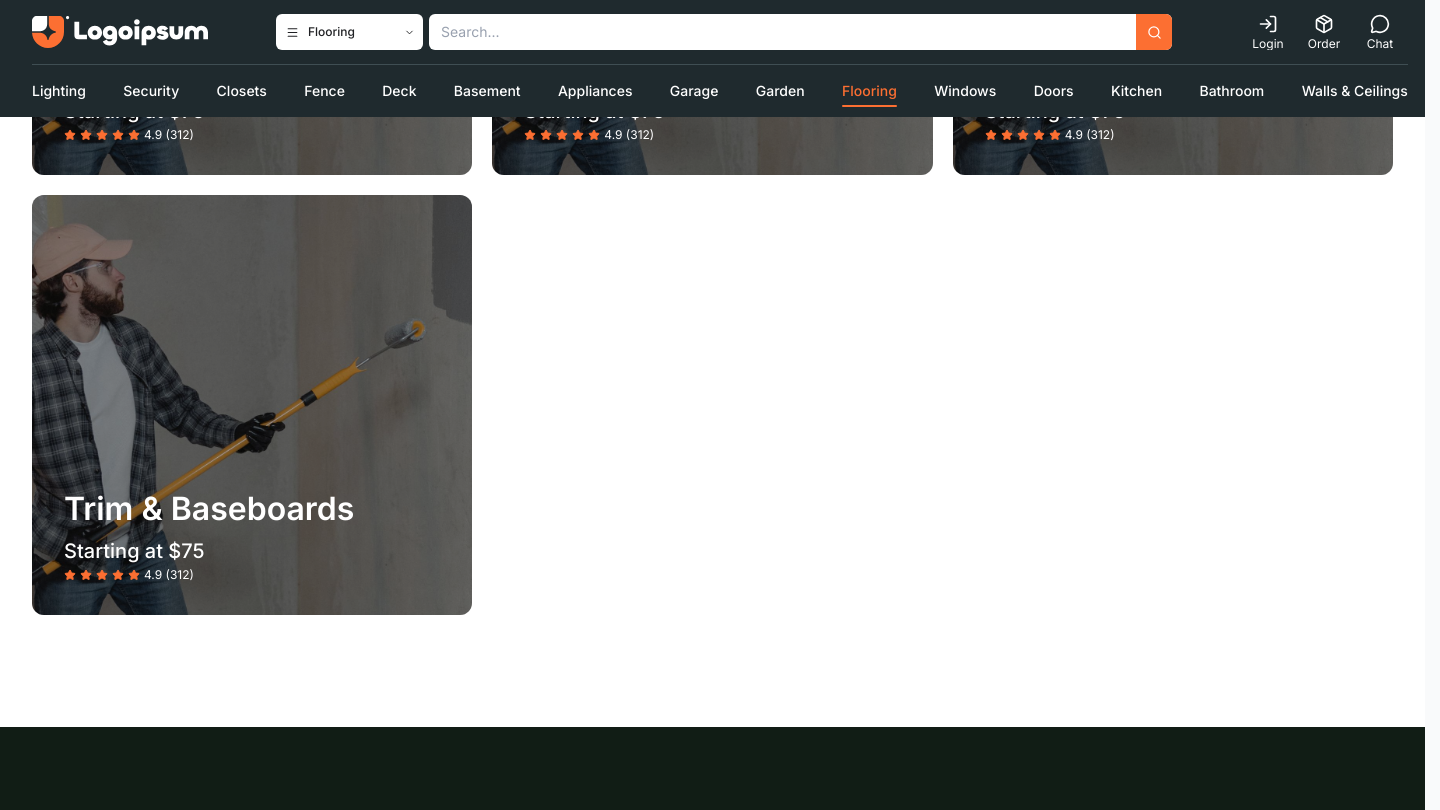
Scenario: Flooring page › opens child services when a subcategory card is clicked
The image size is (1440, 810).
(page scrolled)
Click the button "Trim & Baseboards": (252, 405) 32,195 -> 472,615
(page scrolled)
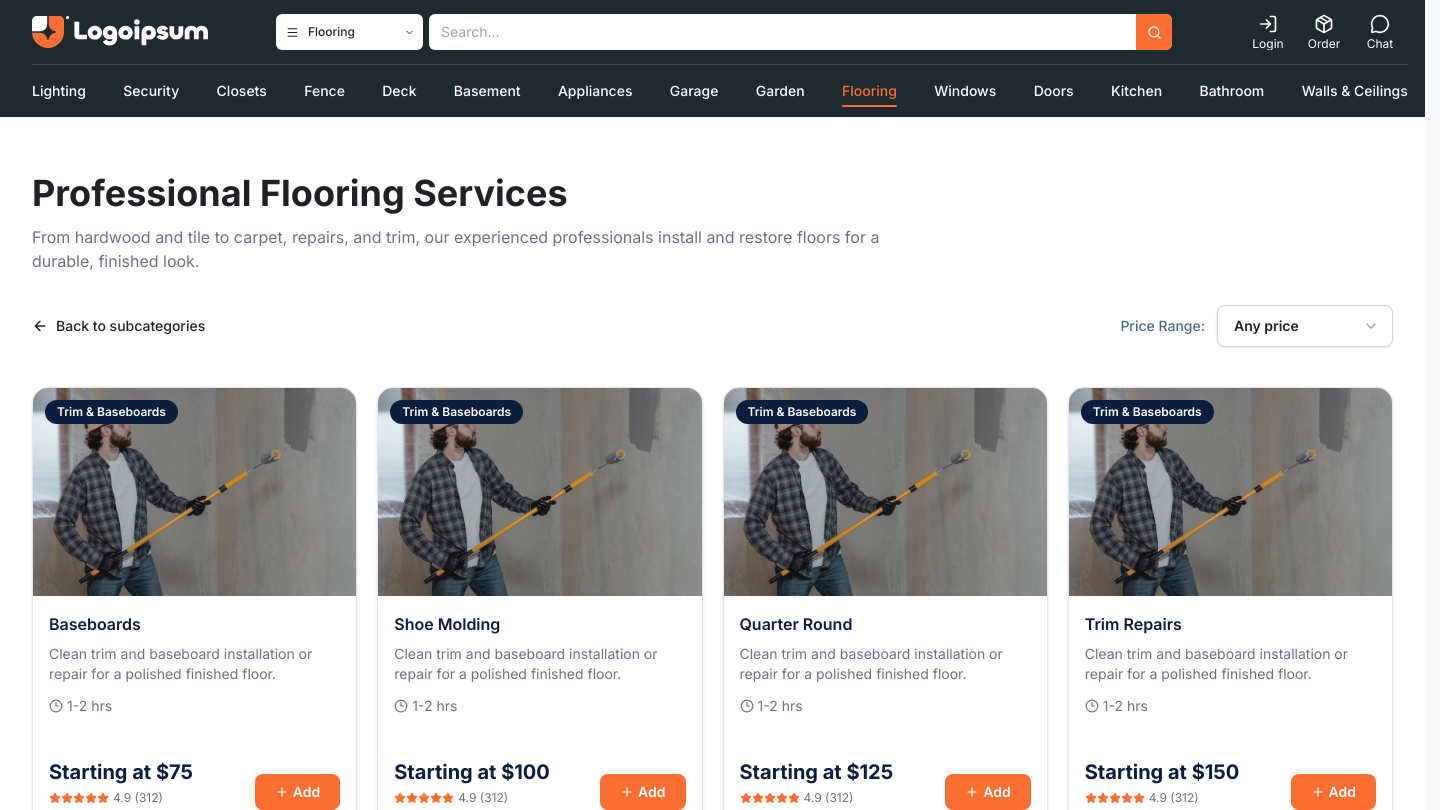
Now the heading "Quarter Round" is shown, box 740,614 -> 852,634
Now the button "Back to subcategories" is shown, box 32,316 -> 205,336
